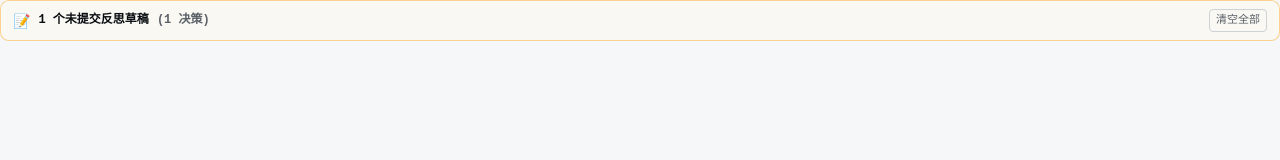
Test: DraftSummaryBanner — 折叠 / 展开 › 点标题 → 展开 draft-list
This screenshot has width=1280, height=160.
Click the button "1 个未提交反思草稿 (1 决策)".
click(124, 20)  # box top-left (38, 11), bottom-right (210, 29)
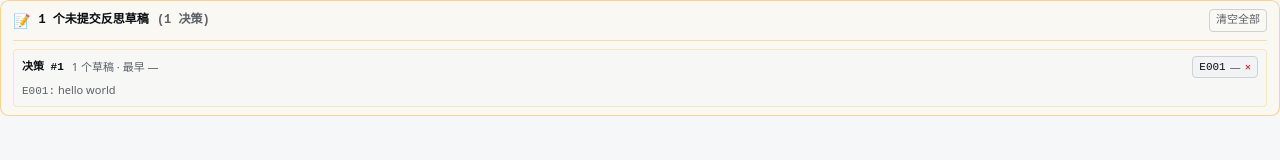
Expected: the list with test id "draft-list" is shown, top-left (13, 40), bottom-right (1267, 106)
